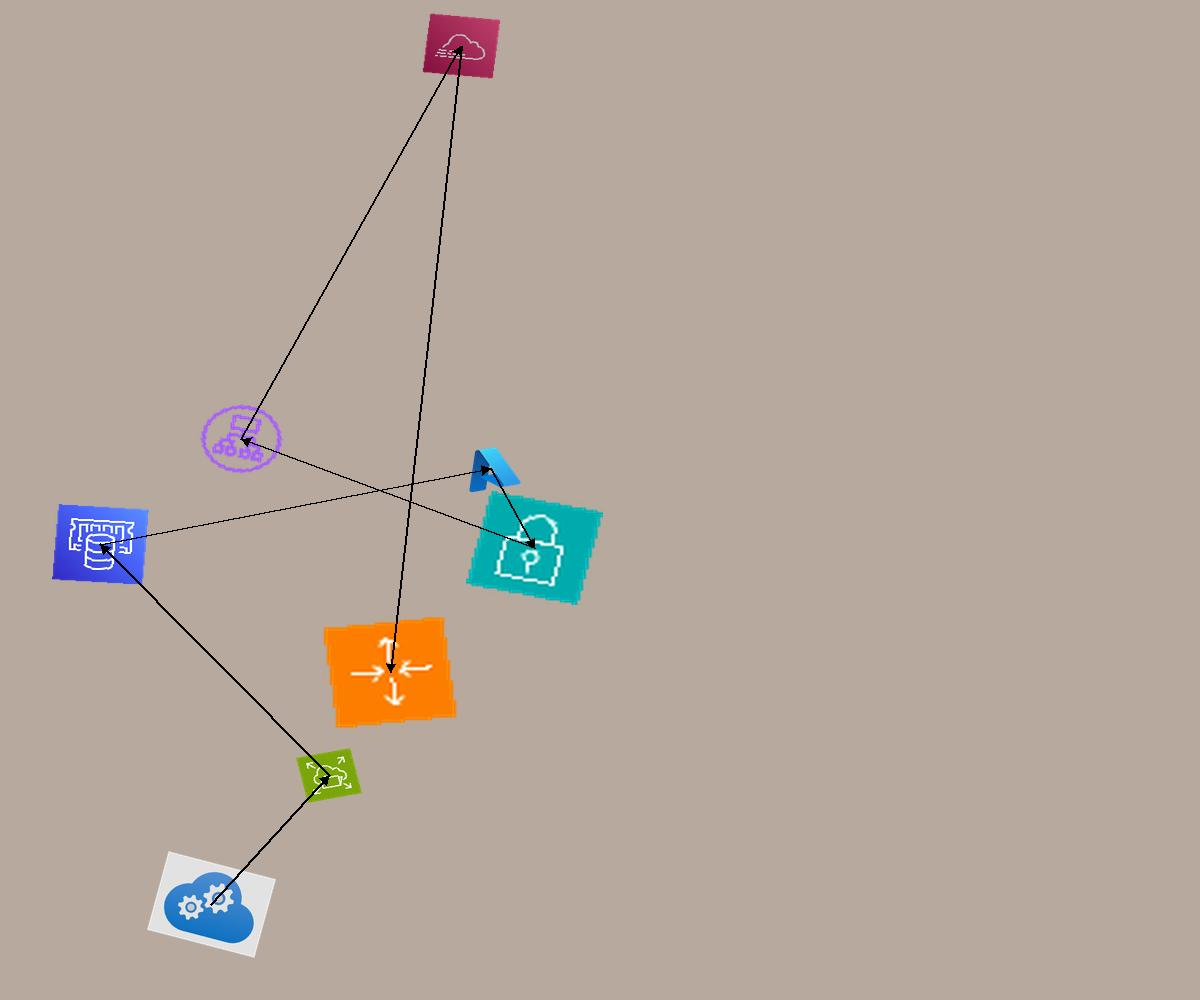AWS-CloudTrail: (422, 13, 501, 79)
AWS-EFS: (296, 748, 362, 803)
AWS-ElastiCache: (52, 504, 149, 585)
AWS-Private-subnet: (466, 491, 603, 605)
AWS-Res_Elastic-Load-Balancing_Application-Load-Balancer: (189, 395, 294, 483)
AWS-Scaling-group: (321, 615, 459, 730)
Azure_cloud_services: (147, 851, 276, 958)
Azure_services: (457, 441, 524, 496)
